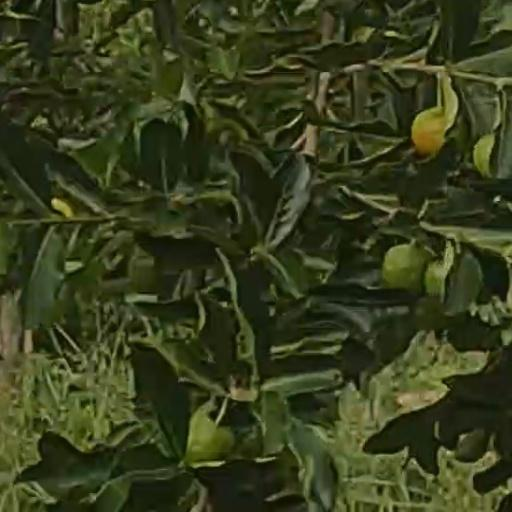acerola_verde: (428, 254, 476, 305), (382, 246, 423, 287), (472, 134, 494, 174)
acerola_vermelha: (411, 107, 447, 152)
